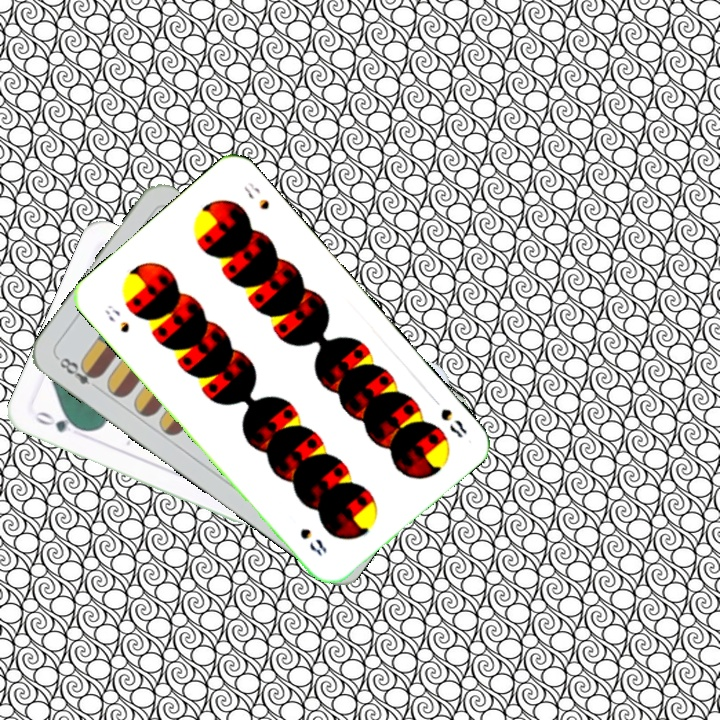E8: (53, 353, 102, 388)
GO: (31, 407, 88, 435)
S8: (436, 404, 470, 441), (100, 300, 132, 336)
